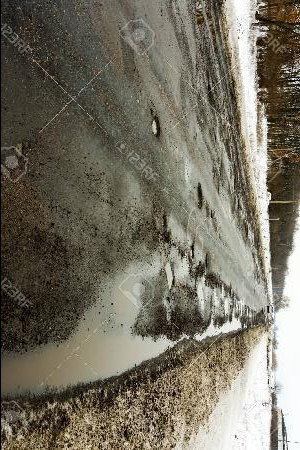pothole: (164, 260, 176, 291), (150, 114, 162, 137), (195, 180, 204, 209), (188, 245, 195, 259)
